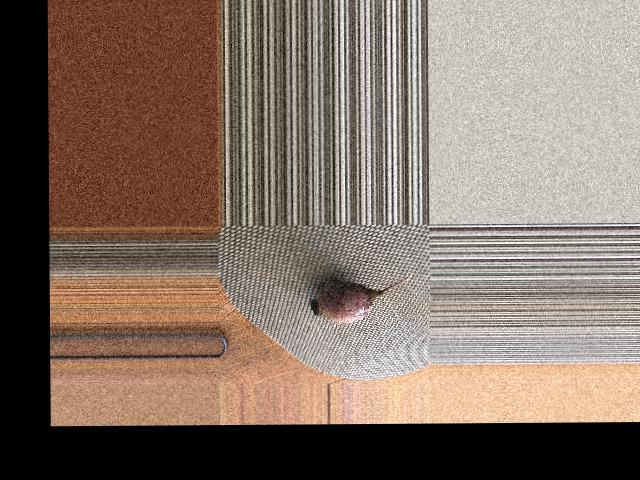beet: (309, 271, 412, 323)
